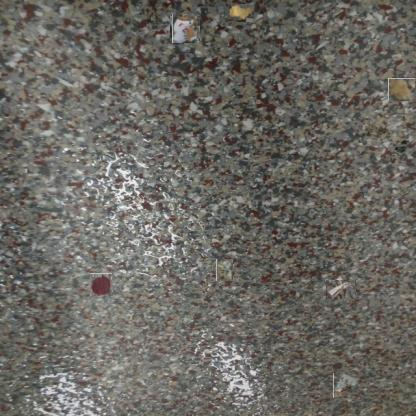dirty: (171, 15, 199, 42), (333, 372, 358, 398), (329, 277, 354, 301), (228, 5, 254, 22), (215, 261, 235, 280)
liquid: (388, 78, 415, 101), (90, 274, 113, 296)
